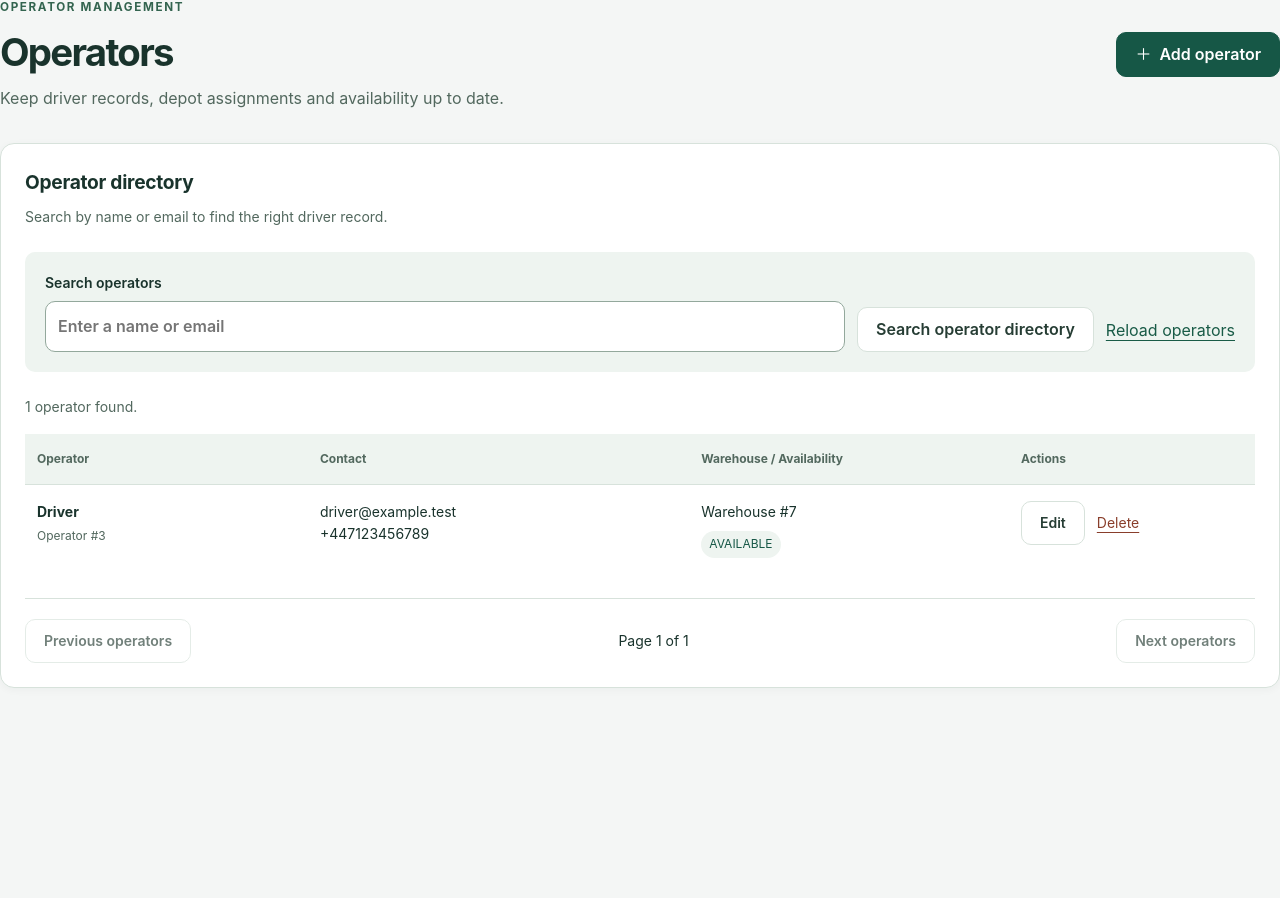
Scenario: operator setup workflow › uses paginated warehouse IDs to distinguish duplicate names and retains selection across search
The width and height of the screenshot is (1280, 898).
Expected: the button with aria-label "Edit operator #3" is shown, [1021,501,1085,545]
Step 1. Click the button "＋ Add operator" → (1198, 54), box [1116,32,1279,77]
(page scrolled)
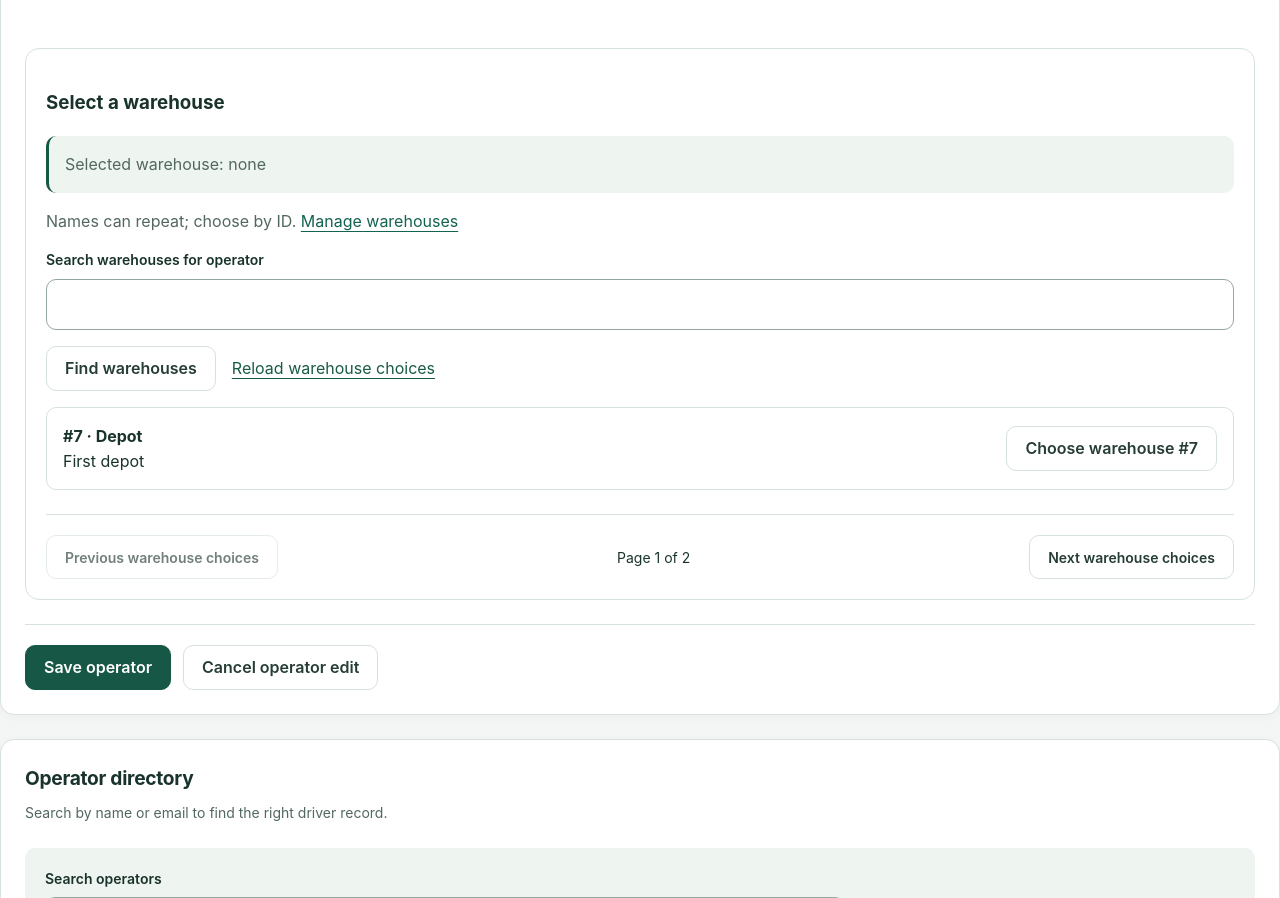
Step 2. Click the button "Choose warehouse #7" → (1112, 449), box [1006,426,1217,471]
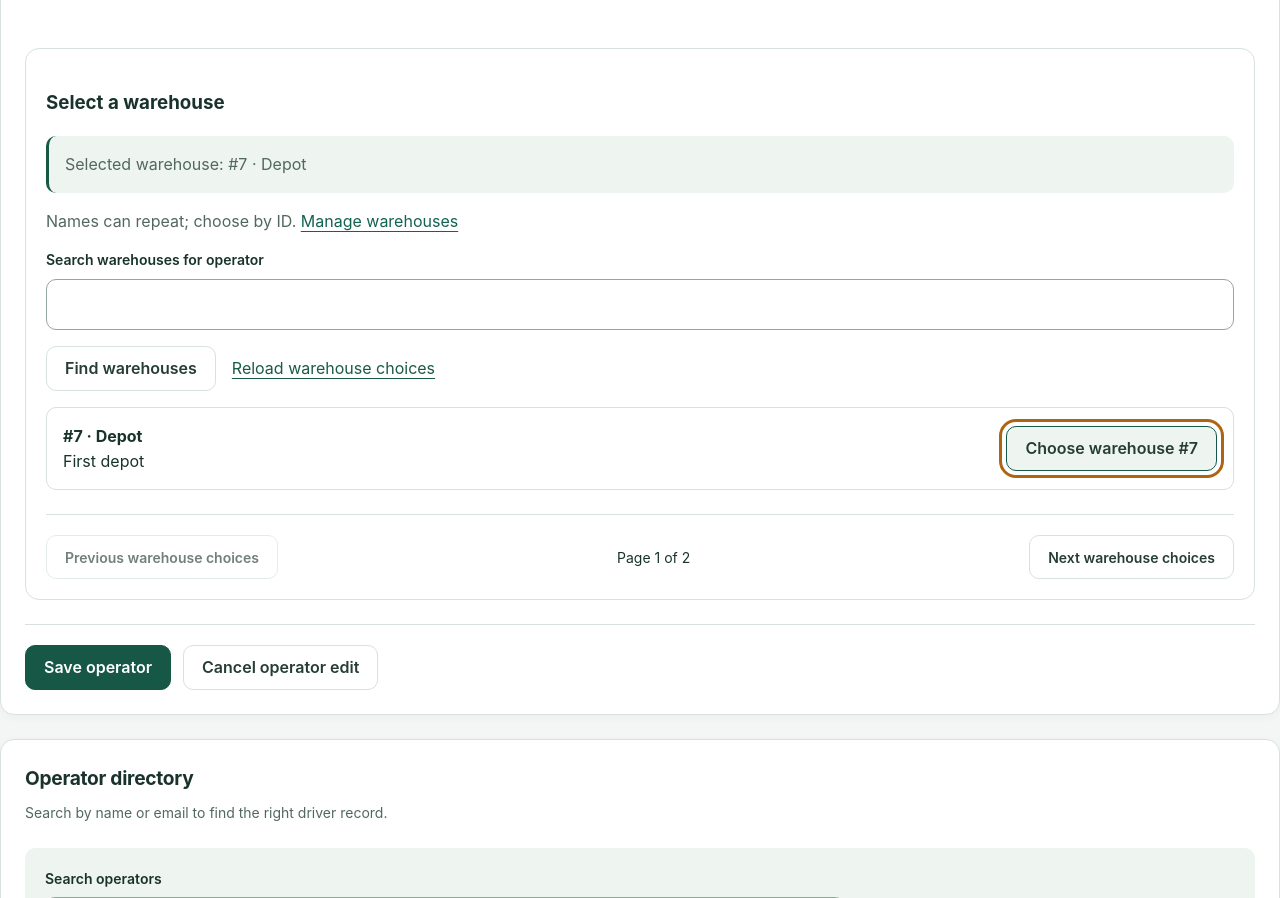
Step 3. Click the button "Next warehouse choices" → (1132, 557), box [1029,535,1234,579]
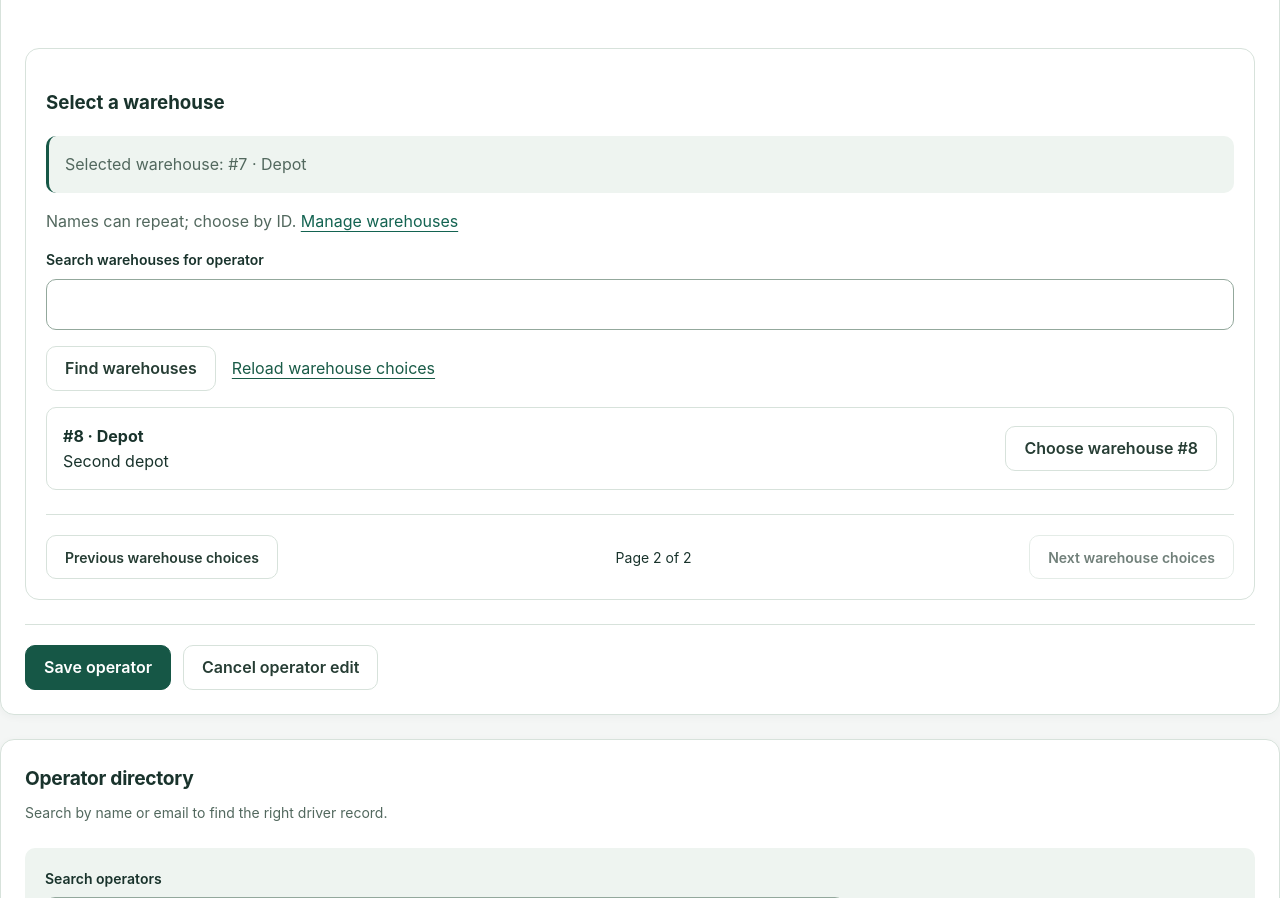
Expected: the text "Selected warehouse: #7 · Depot" is shown, [46,136,1234,193]
Expected: the button "Choose warehouse #8" is shown, [1005,426,1217,471]
